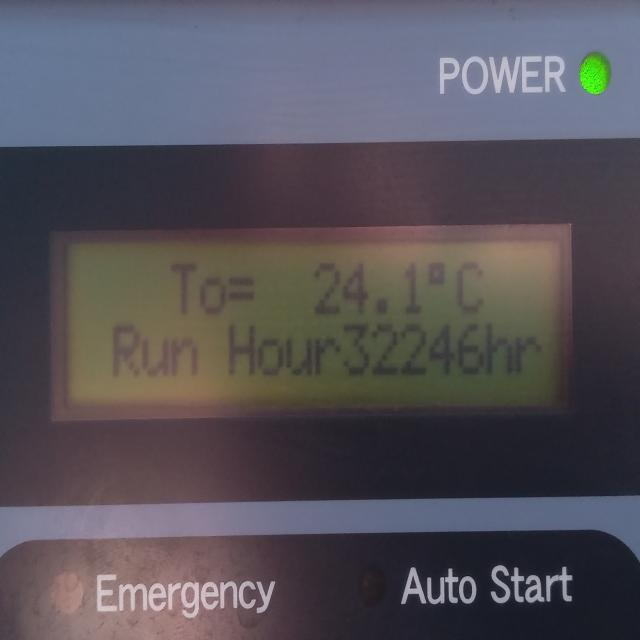display: (52, 224, 576, 428)
frame: (340, 316, 485, 387), (306, 244, 422, 317)
gauge: (0, 0, 640, 640)
